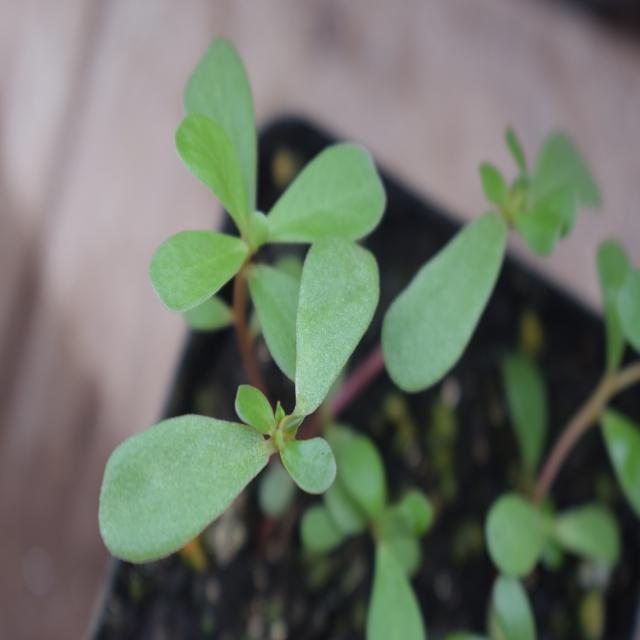purslane: (74, 35, 526, 580)
